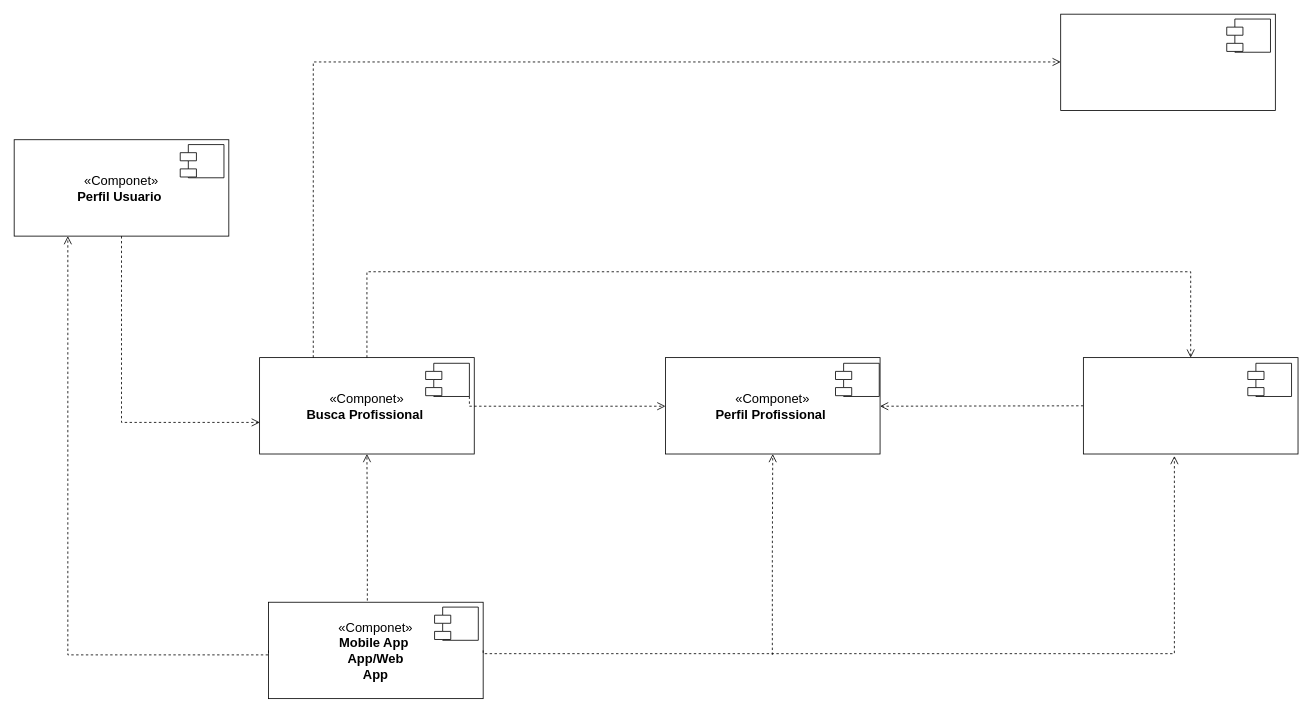
Image size: 1312x713. Some labels were removed from this diagram. Each missing label, with the box of its shape:
«Componet» Chat Privando: (1083, 357, 1298, 454)
«Componet» Firebase: (1060, 13, 1275, 111)
